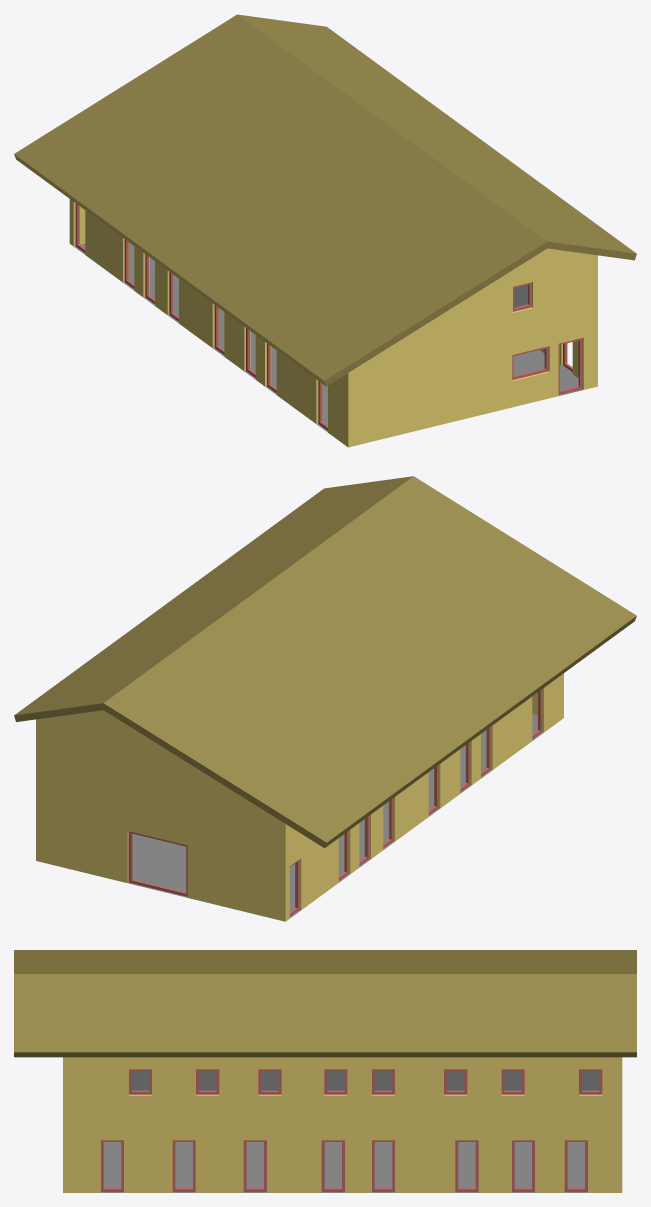
File: result.glb
3 views of the same model, one above another, from view 1: azimuth 30°, elevation 25°; view 2: azimuth 150°, elevation 25°; view 3: azimuth 270°, elevation 25° (orthographic).
Parts seen in each view (by area): view 1: ca6f0482-976b-4b1d-be78-16b58366eace__undefined (×2), 0a05a733-5f90-437f-8397-9bf96760bf9b__undefined, d1bd271e-3a85-4574-a698-c74bd40d46b5__Plane_36; view 2: ca6f0482-976b-4b1d-be78-16b58366eace__undefined (×2), 0a05a733-5f90-437f-8397-9bf96760bf9b__undefined, d1bd271e-3a85-4574-a698-c74bd40d46b5__Plane_36, ee1f77a4-474d-493b-9753-4650e791884b__Box_9; view 3: ca6f0482-976b-4b1d-be78-16b58366eace__undefined (×2), 0a05a733-5f90-437f-8397-9bf96760bf9b__undefined, d1bd271e-3a85-4574-a698-c74bd40d46b5__Plane_36, 29d460c2-aca9-464a-96cc-554e7570e48d__Box_108, 9bf21858-083a-4423-ab17-8aa74f58baa2__Box_75, 72d8345d-21f7-4c16-8a8d-c029ae7688c8__Box_63, bb348be6-e1c5-4784-adc3-d1835fe0e0dd__Box_66, 1a1311ac-f07e-41ce-84ff-b6af23b3109d__Box_69, 45595345-96fd-4be0-a329-f205a526d57e__Box_81, ede8715a-cd4a-4064-8b33-e3a6b42a4939__Box_60, 175c3825-d5d9-4ca1-a0aa-688c8bc92f04__Box_72, 2688813e-ac60-4b05-bcb3-2b25387641aa__Box_78.
Part boxes in pixels (x1,y1,x2,y2): ca6f0482-976b-4b1d-be78-16b58366eace__undefined (×2): (14, 14, 636, 386); 0a05a733-5f90-437f-8397-9bf96760bf9b__undefined: (69, 199, 597, 447); d1bd271e-3a85-4574-a698-c74bd40d46b5__Plane_36: (74, 242, 582, 432); ca6f0482-976b-4b1d-be78-16b58366eace__undefined (×2): (14, 476, 636, 848); 0a05a733-5f90-437f-8397-9bf96760bf9b__undefined: (36, 673, 563, 921); d1bd271e-3a85-4574-a698-c74bd40d46b5__Plane_36: (128, 713, 543, 918); ee1f77a4-474d-493b-9753-4650e791884b__Box_9: (128, 831, 187, 896); ca6f0482-976b-4b1d-be78-16b58366eace__undefined (×2): (14, 950, 636, 1057); 0a05a733-5f90-437f-8397-9bf96760bf9b__undefined: (63, 1057, 622, 1192); d1bd271e-3a85-4574-a698-c74bd40d46b5__Plane_36: (101, 1142, 587, 1192); 29d460c2-aca9-464a-96cc-554e7570e48d__Box_108: (132, 1071, 599, 1090); 9bf21858-083a-4423-ab17-8aa74f58baa2__Box_75: (455, 1140, 478, 1191); 72d8345d-21f7-4c16-8a8d-c029ae7688c8__Box_63: (172, 1140, 195, 1191); bb348be6-e1c5-4784-adc3-d1835fe0e0dd__Box_66: (243, 1140, 266, 1191); 1a1311ac-f07e-41ce-84ff-b6af23b3109d__Box_69: (321, 1140, 344, 1191); 45595345-96fd-4be0-a329-f205a526d57e__Box_81: (564, 1140, 587, 1191); ede8715a-cd4a-4064-8b33-e3a6b42a4939__Box_60: (101, 1140, 123, 1191); 175c3825-d5d9-4ca1-a0aa-688c8bc92f04__Box_72: (372, 1140, 394, 1191); 2688813e-ac60-4b05-bcb3-2b25387641aa__Box_78: (512, 1140, 534, 1191).
Bounding box in the file's own units: 1250 × 692 × 2147.
